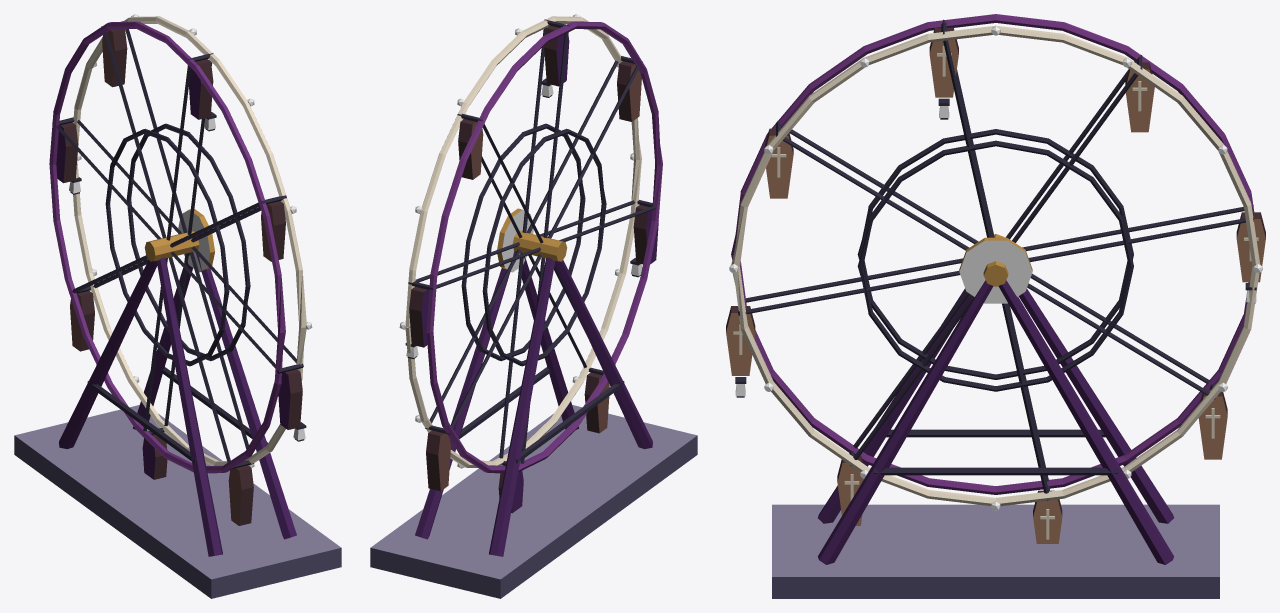
The model's file is Fair_CoffinWheel.fbx.
The picture shows the model from 3 angles, left to right: view 1: azimuth 30°, elevation 25°; view 2: azimuth 150°, elevation 25°; view 3: azimuth 270°, elevation 25°; orthographic projection. The views are drawn at different scales.
Parts seen in each view (by area): view 1: Fair_CoffinWheel; view 2: Fair_CoffinWheel; view 3: Fair_CoffinWheel.
Boxes of the visible parts, box(x1,y1,x2,y2) form: Fair_CoffinWheel: box(14, 14, 341, 598); Fair_CoffinWheel: box(370, 14, 697, 598); Fair_CoffinWheel: box(726, 14, 1265, 598).
Size of what is drawn, in the model's own units: 4.2 by 15.11 by 13.26.
2 materials, 1 textured.
